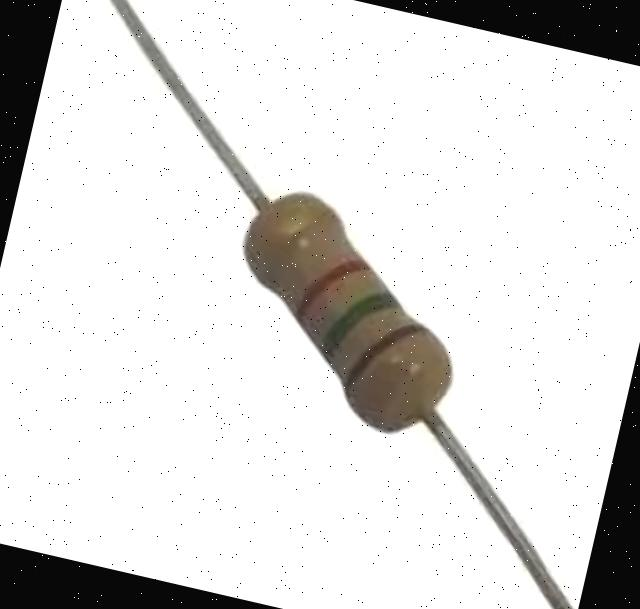brown: (334, 310, 433, 406)
gold: (237, 194, 352, 295)
green: (310, 282, 411, 371)
orange: (283, 240, 381, 331)
resistor: (192, 133, 524, 481)
